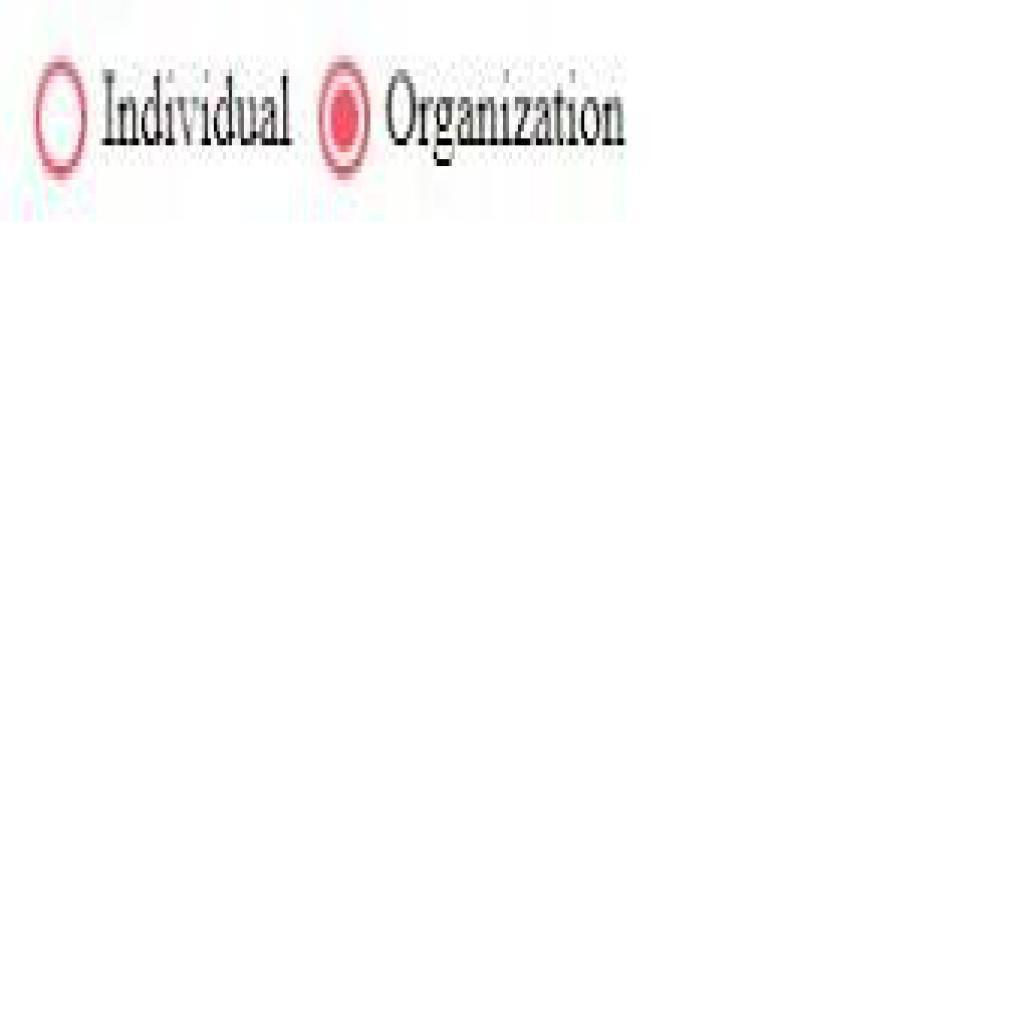label: (384, 67, 634, 168), (101, 67, 298, 154)
radio: (314, 54, 378, 178), (36, 58, 90, 180)
